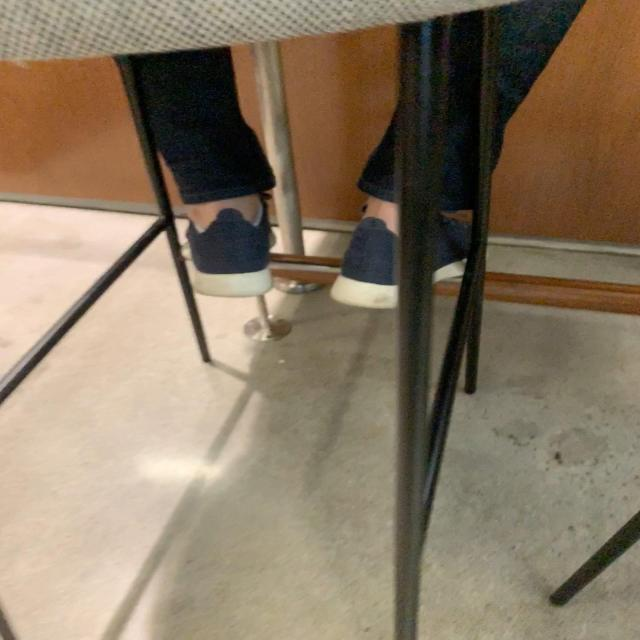shoe: (353, 220, 464, 309), (184, 196, 273, 301)
